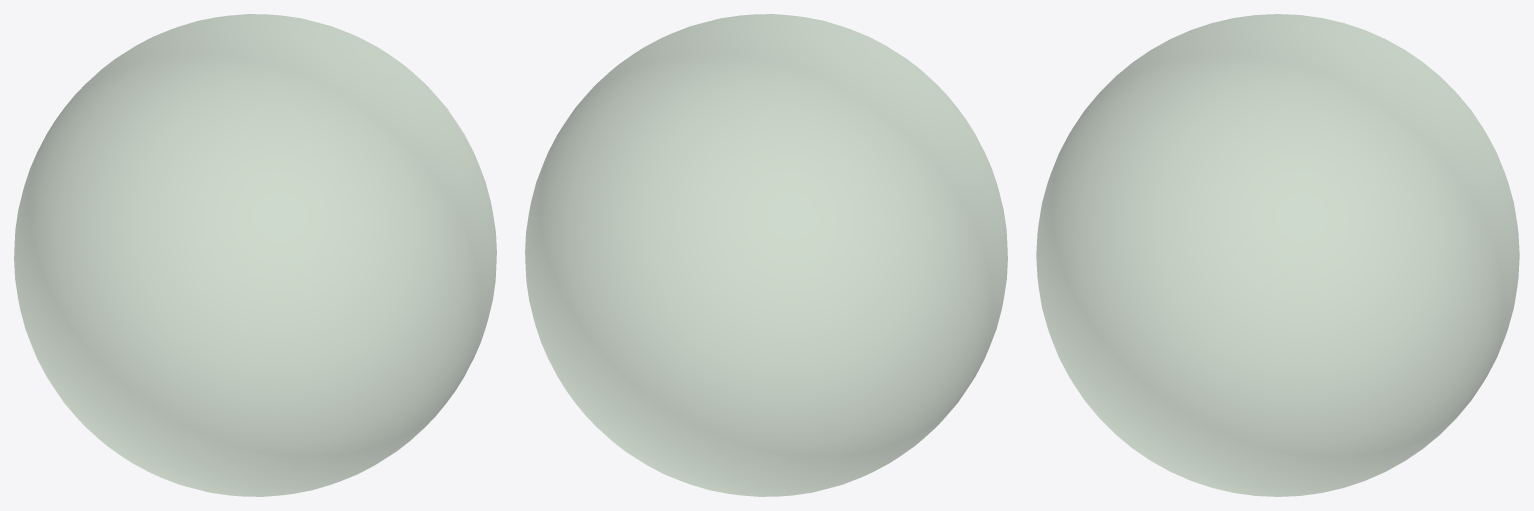
3 renders of one model, left to right at view 1: azimuth 30°, elevation 25°; view 2: azimuth 150°, elevation 25°; view 3: azimuth 270°, elevation 25°, orthographic.
Visible parts, largest first — view 1: 立方体; view 2: 立方体; view 3: 立方体.
Boxes of the visible parts, left/top/right/bottom form: 立方体: left=14, top=14, right=496, bottom=496; 立方体: left=525, top=14, right=1007, bottom=496; 立方体: left=1036, top=14, right=1519, bottom=496.
Bounding box in the file's own units: 3.46 × 3.46 × 3.46.
